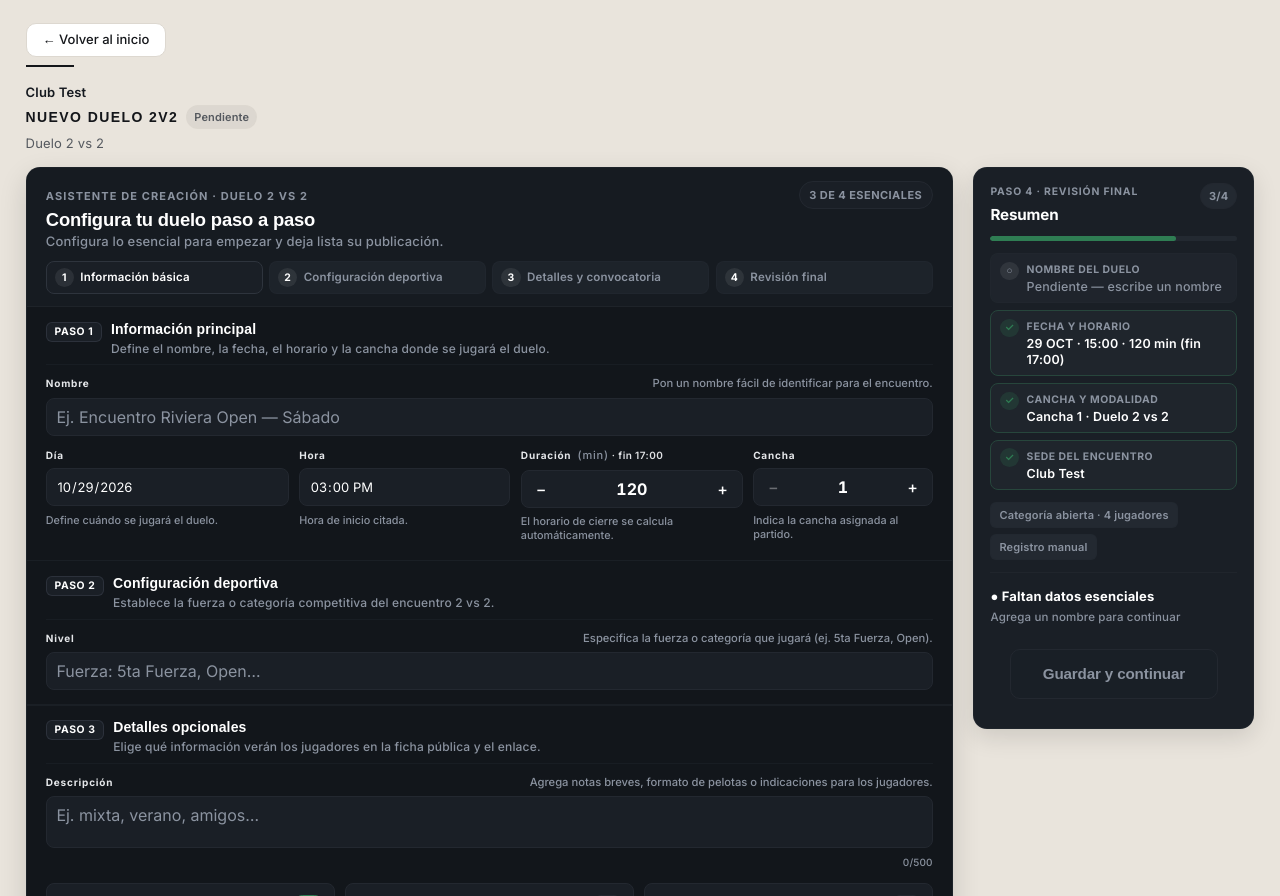
Test: Duelo2v2Nuevo — ciclo de vida limpio › renderiza estructura guiada de 4 pasos, resumen con checklist y fin automático sin duplicar motivo de bloqueo
Check: the list item "1 Información básica" is shown, box [46,261,263,294]
Check: the list item "2 Configuración deportiva" is shown, box [269,261,486,294]
Step 1. Type "Duelo Estelar" into the field labelled "Nombre Pon un nombre fácil de identificar para el encuentro." → (489, 417), box [46,398,933,436]
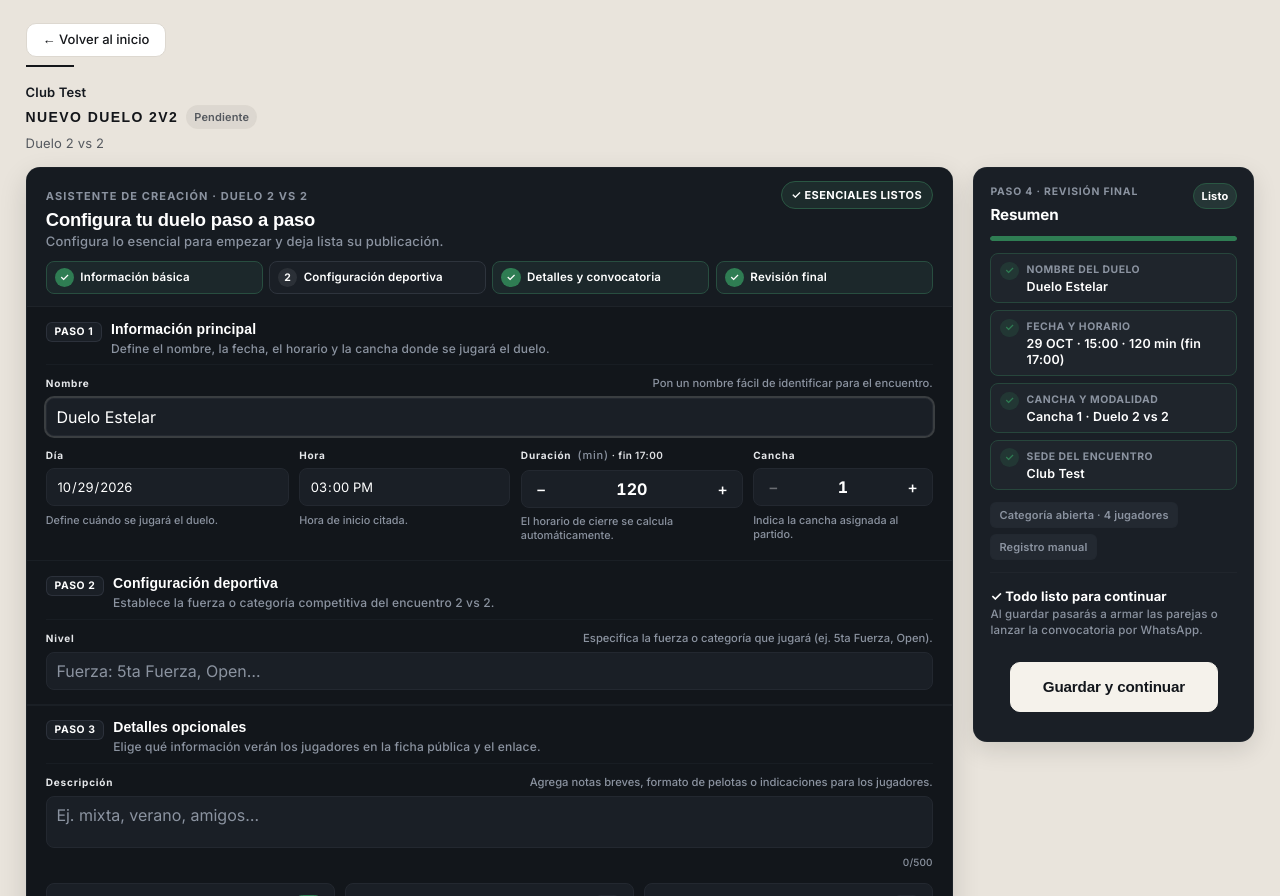
Check: the text "✓ Esenciales listos" is shown, box [781,181,933,209]
Check: the text "✓ Todo listo para continuar" is shown, box [990,588,1167,604]
Step 2. Type "4ta Fuerza" into the field labelled "Nivel" → (489, 671), box [46,652,933,690]
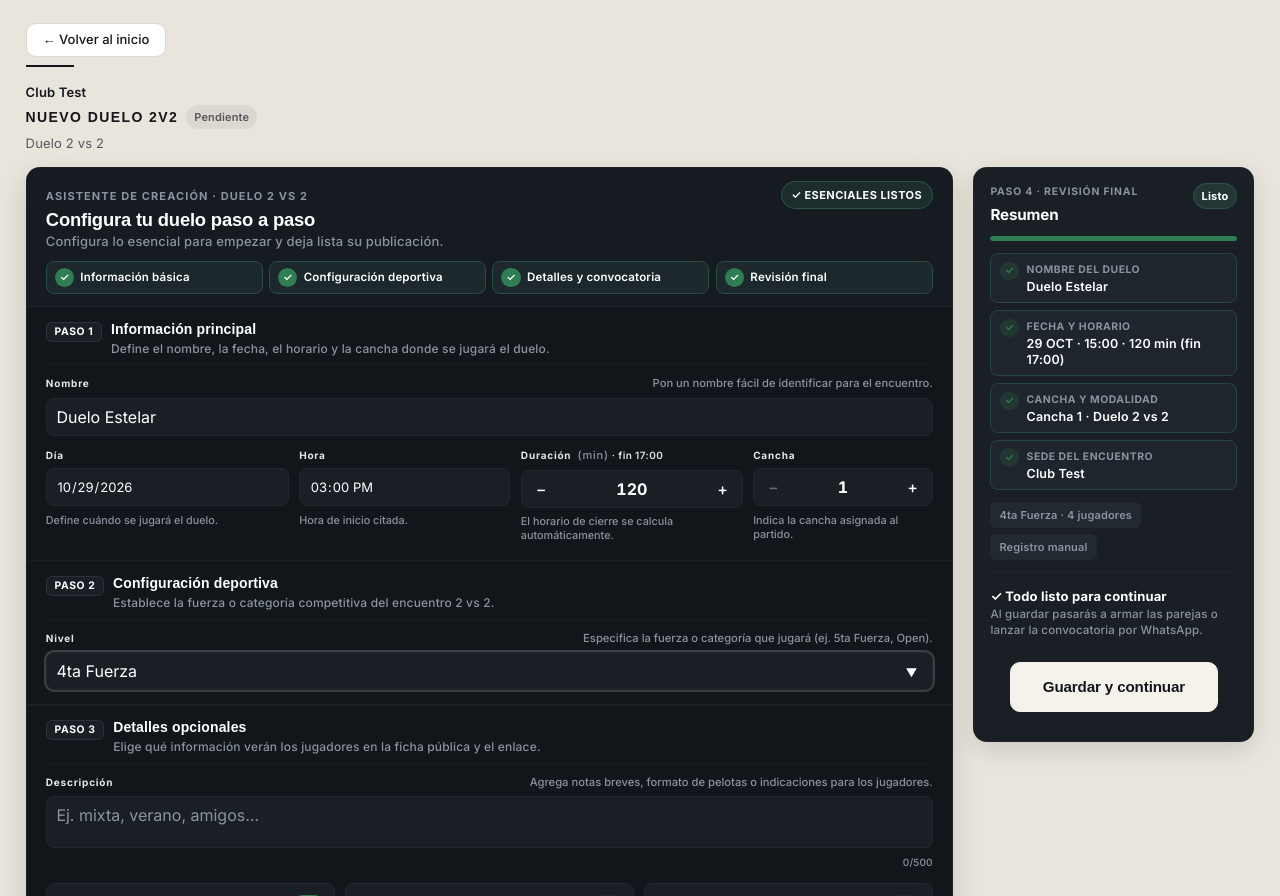
Check: the field labelled "Cancha − + Indica la cancha asignada al partido." holds "1", box [792,469,894,505]
Check: the text "4ta Fuerza · 4 jugadores" is shown, box [990,502,1141,528]
Step 3. Click the button named "Más cancha" → (912, 487), box [896,471,928,503]
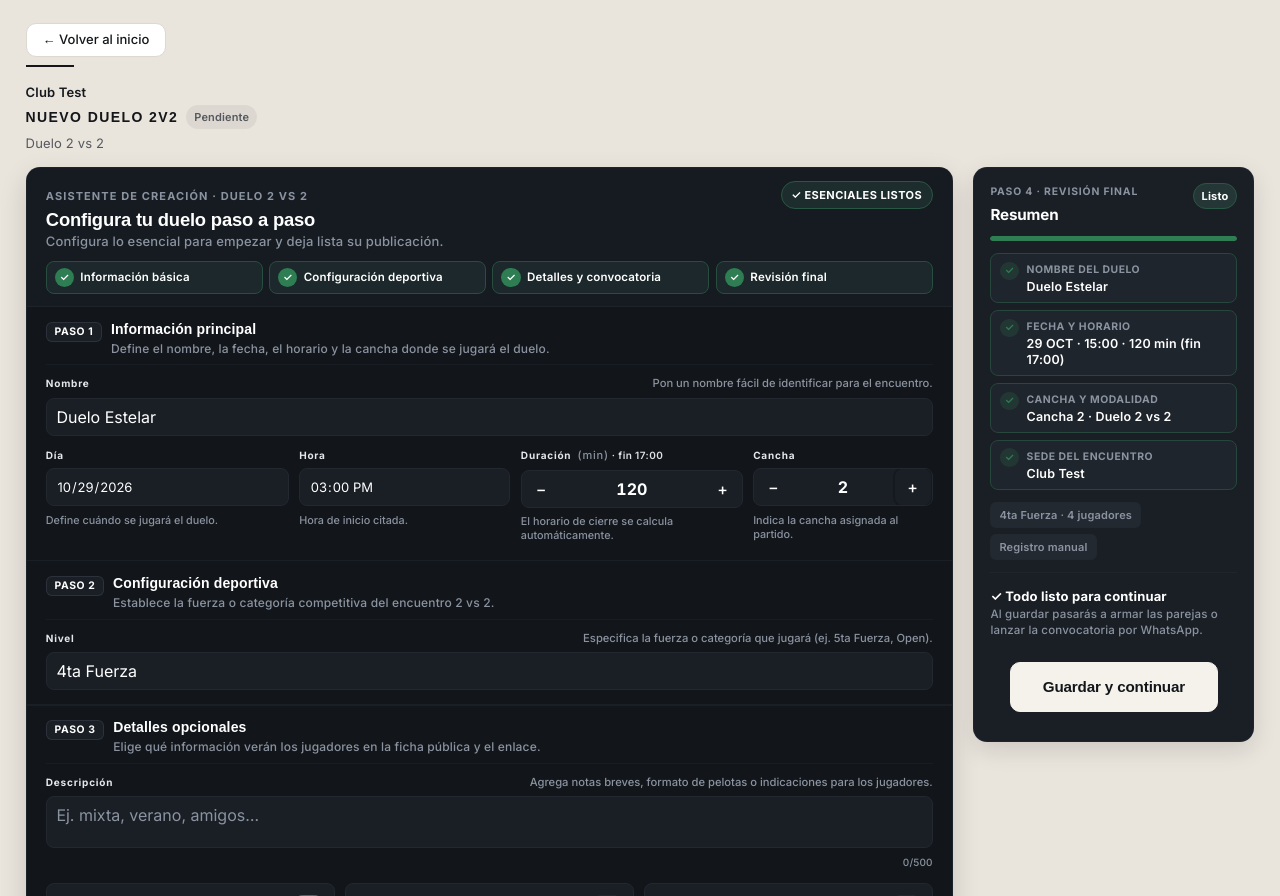
Check: the field labelled "Cancha − + Indica la cancha asignada al partido." holds "2", box [792,469,894,505]
Check: the text "Cancha 2 · Duelo 2 vs 2" is shown, box [1027,409,1172,424]
Step 4. Click the button named "Menos cancha" → (773, 487), box [757,471,789,503]
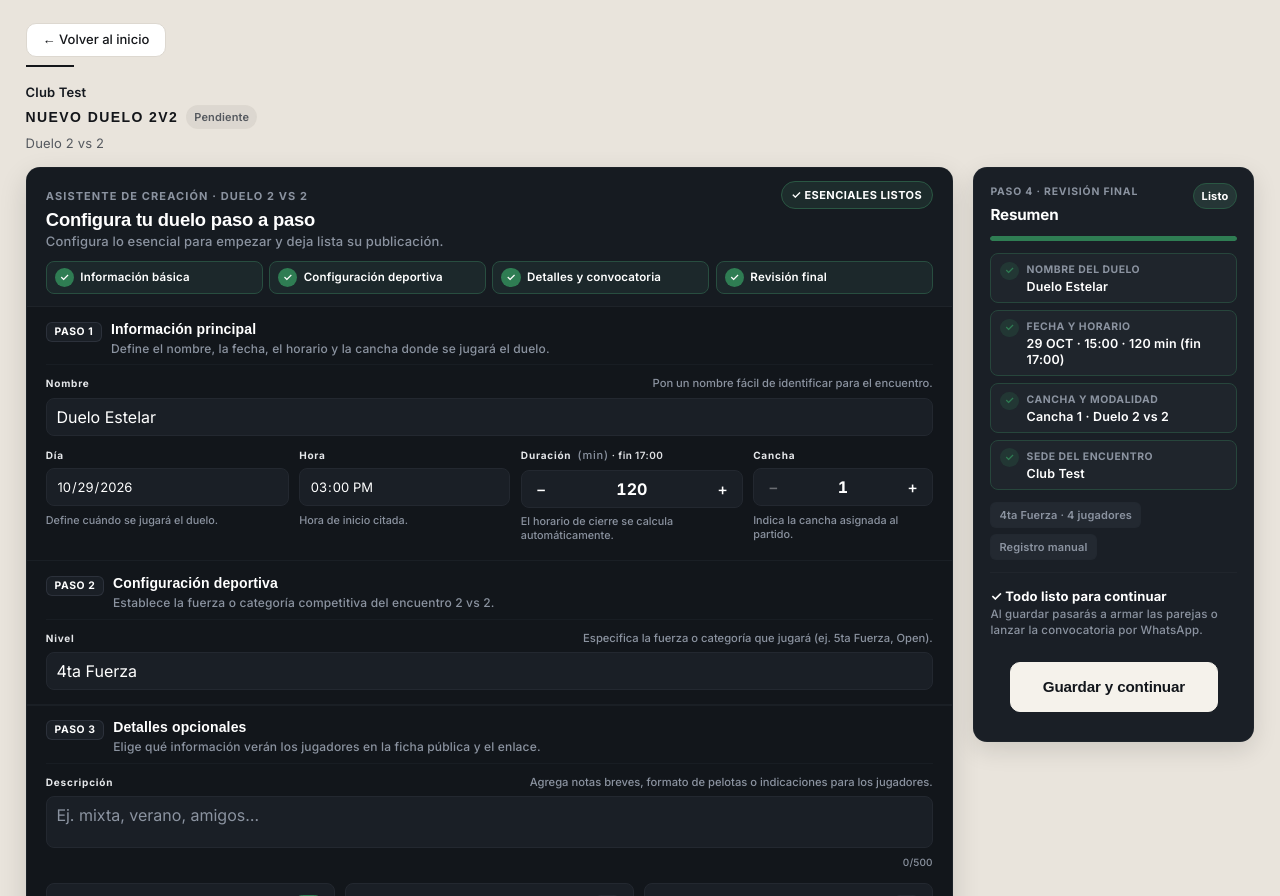
Check: the field labelled "Cancha − + Indica la cancha asignada al partido." holds "1", box [792,469,894,505]
Check: the text "Cancha 1 · Duelo 2 vs 2" is shown, box [1027,409,1169,424]
